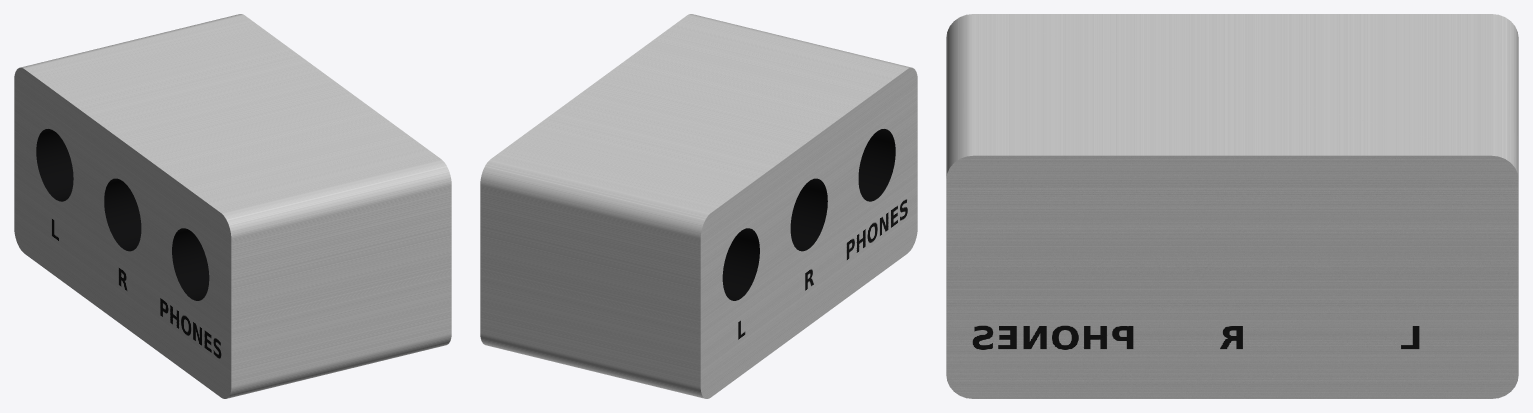
File: midi_jack_plate.glb
3 renders of one model, left to right at view 1: azimuth 30°, elevation 25°; view 2: azimuth 150°, elevation 25°; view 3: azimuth 270°, elevation 25°, orthographic. The views are drawn at different scales.
Bounding box in the file's own units: 0.0375 × 0.03 × 0.064.
2 materials, 1 textured.
